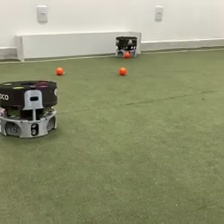ball: (55, 65, 64, 75), (118, 66, 127, 75), (124, 49, 131, 57)
goal: (15, 30, 143, 63)
robot: (1, 79, 60, 140), (114, 34, 138, 58)
